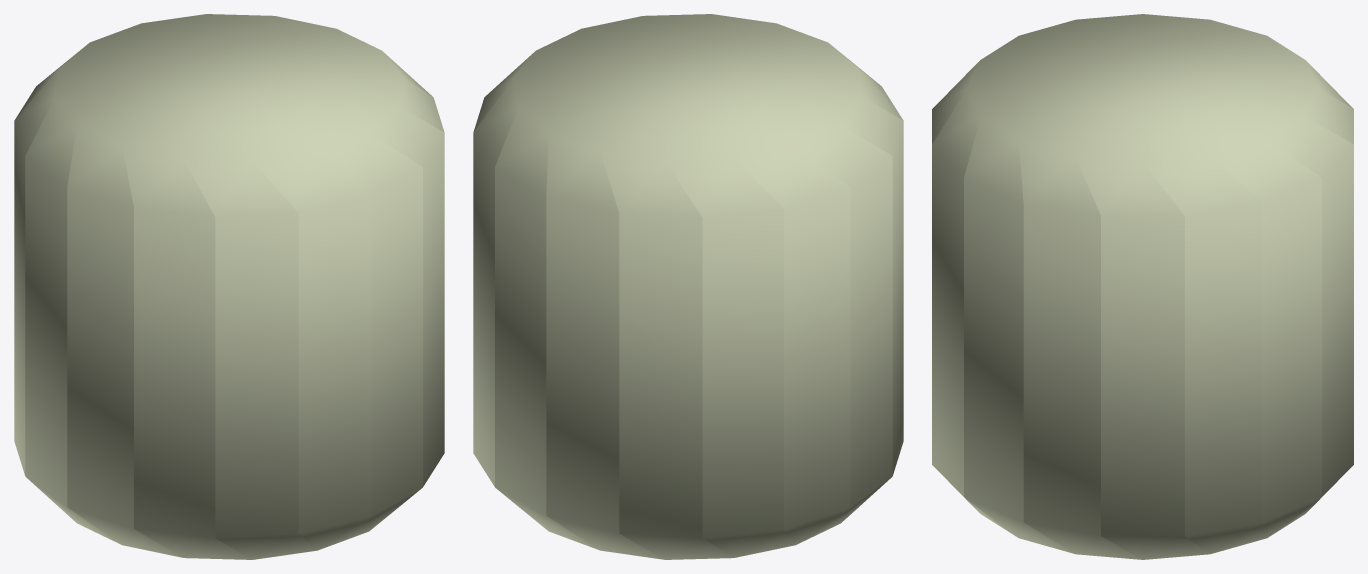
The model's file is lightsaber-handle.obj.
The picture shows the model from 3 angles, left to right: view 1: azimuth 30°, elevation 25°; view 2: azimuth 150°, elevation 25°; view 3: azimuth 270°, elevation 25°; orthographic projection.
Visible parts, largest first — view 1: Cylinder1; view 2: Cylinder1; view 3: Cylinder1.
Part boxes in pixels (<box>): Cylinder1: <box>14,14,444,559</box>; Cylinder1: <box>473,14,903,559</box>; Cylinder1: <box>932,14,1353,559</box>.
Size of the model in its own units: 1.92 by 2 by 1.92.
